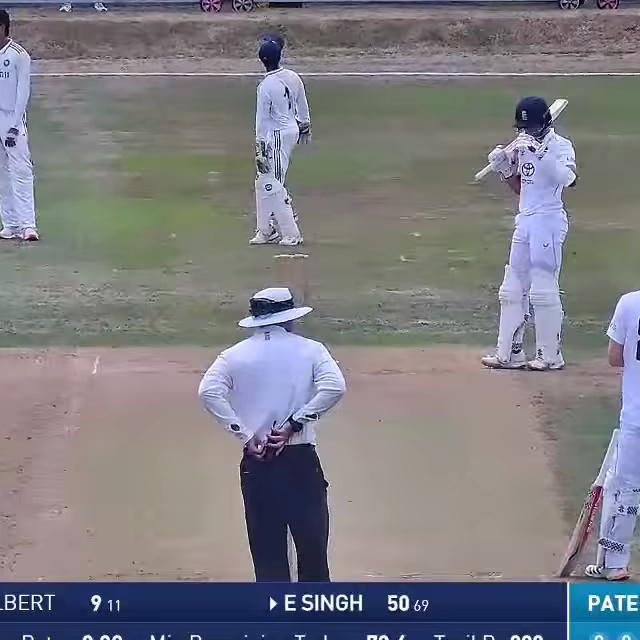umpire: (192, 274, 354, 584)
